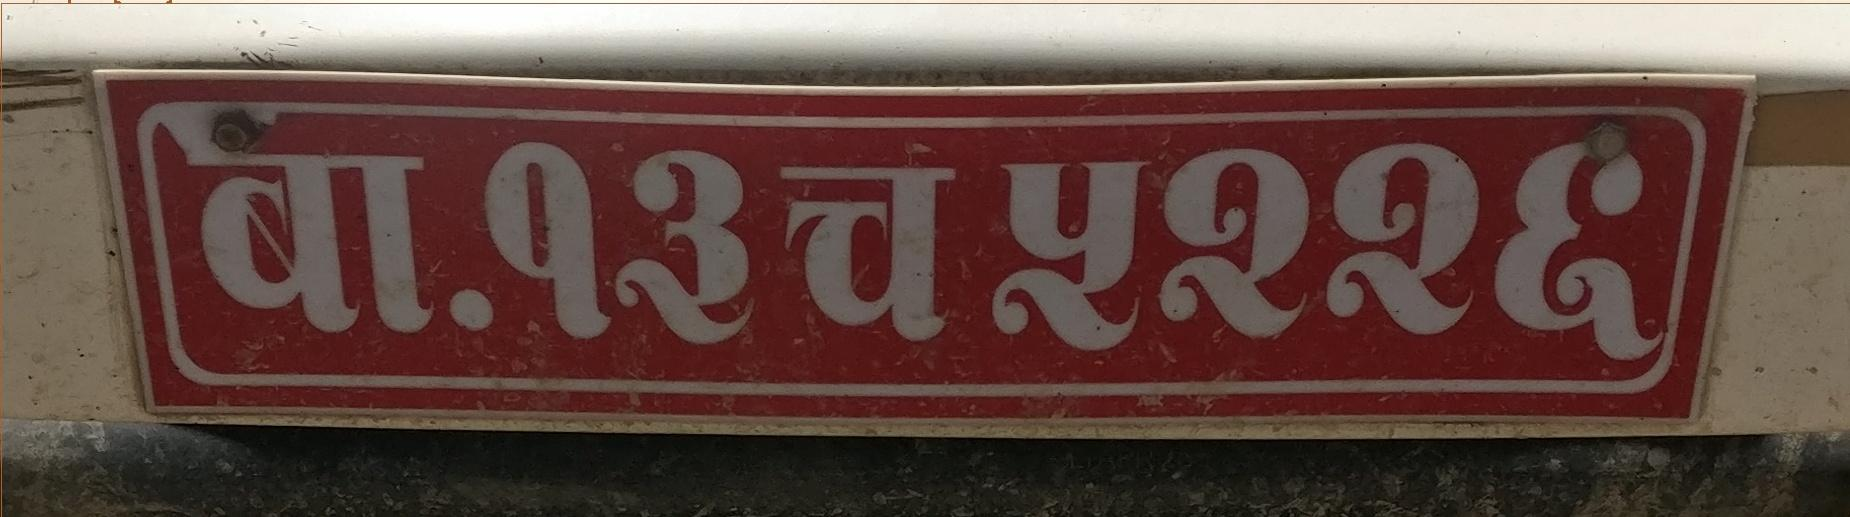1: (466, 131, 621, 343)
2: (1321, 134, 1489, 365), (1155, 137, 1322, 355)
3: (615, 141, 767, 349)
5: (969, 149, 1154, 351)
6: (1488, 137, 1668, 363)
ba: (176, 135, 445, 349)
cha: (771, 148, 961, 348)
